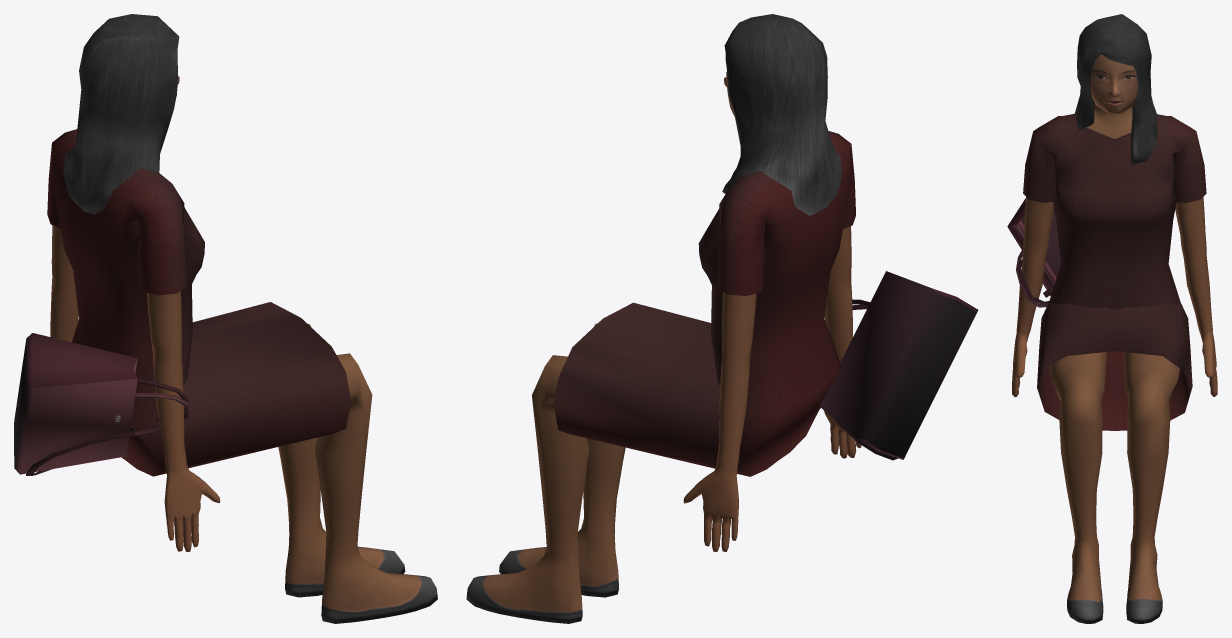
The model's file is seated_down.dae.
3 renders of one model, left to right at view 1: azimuth 30°, elevation 25°; view 2: azimuth 150°, elevation 25°; view 3: azimuth 270°, elevation 25°, orthographic. The views are drawn at different scales.
Parts seen in each view (by area): view 1: StaticHuman; view 2: StaticHuman; view 3: StaticHuman.
Boxes of the visible parts, x1,y1,x2,y2 form: StaticHuman: (14,14,437,623); StaticHuman: (466,14,978,623); StaticHuman: (1007,14,1217,623).
Bounding box in the file's own units: 0.8437 × 0.4448 × 1.16.
2 materials, 2 textured.
